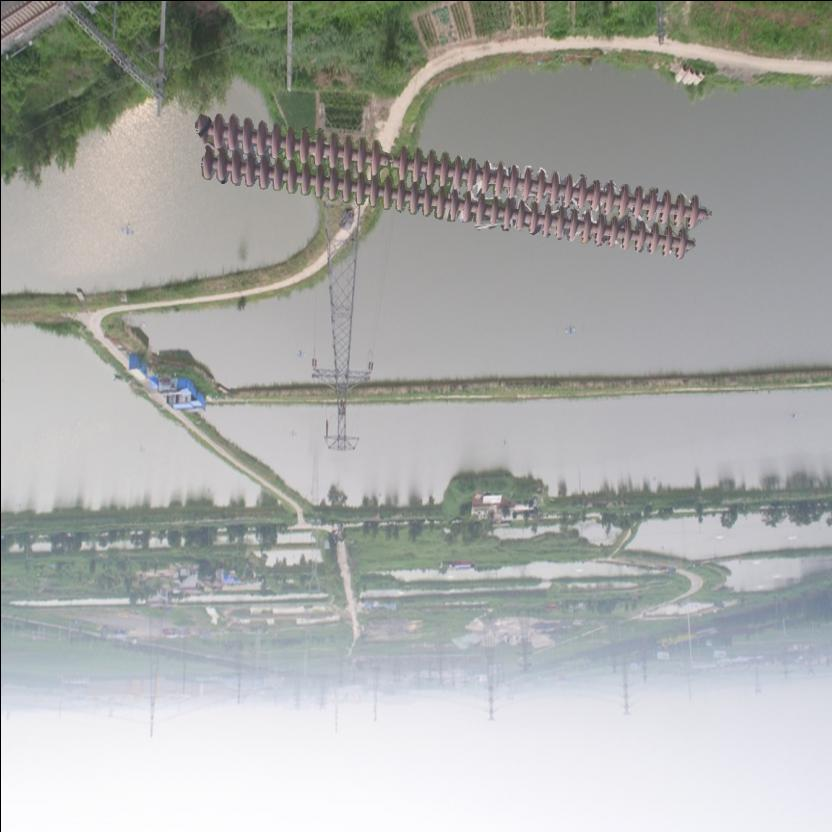defect: (364, 138, 410, 184)
